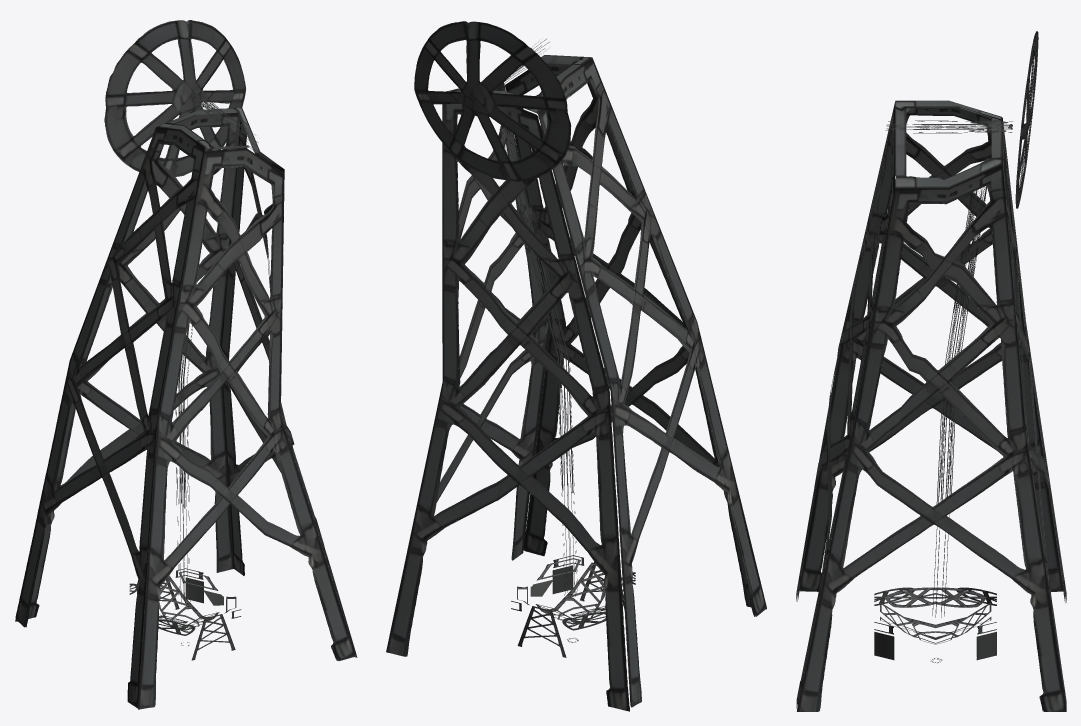
The model's file is oilrigburn1.gltf.
3 views of the same model, side by side, from view 1: azimuth 30°, elevation 25°; view 2: azimuth 150°, elevation 25°; view 3: azimuth 270°, elevation 25° (orthographic). The views are drawn at different scales.
Visible parts, largest first — view 1: oilrigburn1_atomic0; view 2: oilrigburn1_atomic0; view 3: oilrigburn1_atomic0.
Part boxes in pixels (x1=…): oilrigburn1_atomic0: x1=15, y1=20, x2=357, y2=709; oilrigburn1_atomic0: x1=386, y1=21, x2=766, y2=711; oilrigburn1_atomic0: x1=796, y1=31, x2=1066, y2=711.
Size of the model in its own units: 31.62 by 79.48 by 30.27.
Materials: 1 (1 with a texture image).
